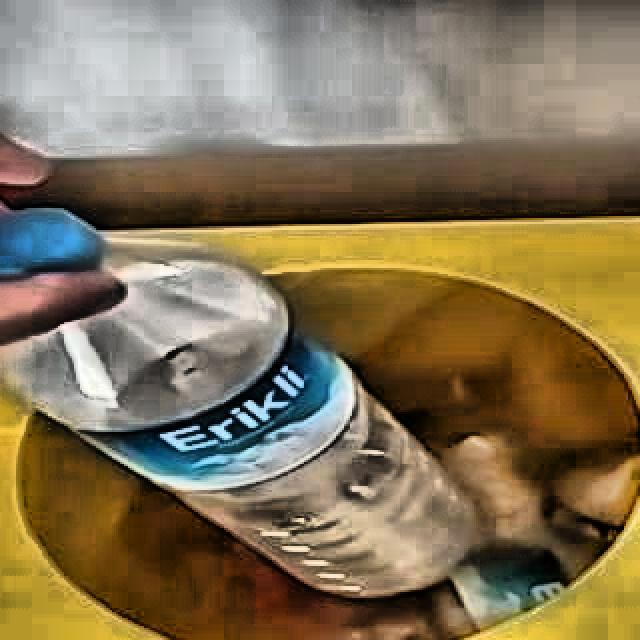plastic: (0, 208, 472, 596)
